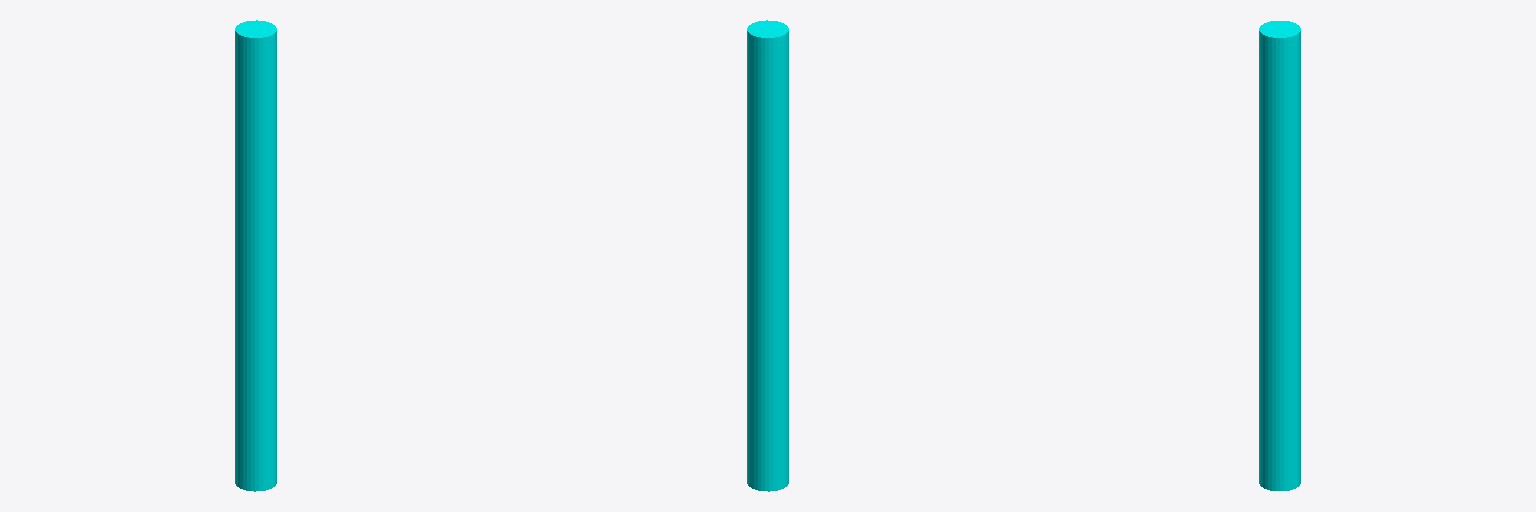
URDF robot description (three_dof_robot):
<?xml version="1.0"?>
<robot name="three_dof_robot">
  <link name="link1">
    <inertial>
      <mass value="1"/>
      <inertia ixx="0.0325" ixy="0.0" ixz="0.0" iyy="0.0325" iyz="0.0" izz="0.005"/>
      <origin xyz="0 0 0.3"/>
    </inertial>
    <visual>
      <origin xyz="0 0 0.3" rpy="0 0 0"/>
      <geometry>
        <cylinder length="0.6" radius="0.1"/>
      </geometry>
      <material name="Cyan">
        <color rgba="0 1.0 1.0 1.0"/>
      </material>
    </visual>
    <collision>
      <geometry>
        <cylinder length="0.6" radius="0.1"/>
      </geometry>
      <origin xyz="0 0 0.3"/>
    </collision>
  </link>
  <link name="link2">
    <inertial>
      <mass value="1"/>
      <inertia ixx="0.0325" ixy="0.0" ixz="0.0" iyy="0.0325" iyz="0.0" izz="0.005"/>
      <origin xyz="0 0 0.3"/>
    </inertial>
    <visual>
      <origin xyz="0 0 0.3" rpy="0 0 0"/>
      <geometry>
        <cylinder length="0.6" radius="0.1"/>
      </geometry>
      <material name="Cyan">
        <color rgba="0 1.0 1.0 1.0"/>
      </material>
    </visual>
    <collision>
      <geometry>
        <cylinder length="0.6" radius="0.1"/>
      </geometry>
      <origin xyz="0 0 0.3"/>
    </collision>
  </link>
  <link name="link3">
    <inertial>
      <mass value="1"/>
      <inertia ixx="0.0325" ixy="0.0" ixz="0.0" iyy="0.0325" iyz="0.0" izz="0.005"/>
      <origin xyz="0 0 0.3"/>
    </inertial>
    <visual>
      <origin xyz="0 0 0.3" rpy="0 0 0"/>
      <geometry>
        <cylinder length="0.6" radius="0.1"/>
      </geometry>
      <material name="Cyan">
        <color rgba="0 1.0 1.0 1.0"/>
      </material>
    </visual>
    <collision>
      <geometry>
        <cylinder length="0.6" radius="0.1"/>
      </geometry>
      <origin xyz="0 0 0.3"/>
    </collision>
  </link>
  <link name="link4">
    <inertial>
      <mass value="1"/>
      <inertia ixx="0.0325" ixy="0.0" ixz="0.0" iyy="0.0325" iyz="0.0" izz="0.005"/>
      <origin xyz="0 0 0.3"/>
    </inertial>
    <visual>
      <origin xyz="0 0 0.3" rpy="0 0 0"/>
      <geometry>
        <cylinder length="0.6" radius="0.1"/>
      </geometry>
      <material name="Cyan">
        <color rgba="0 1.0 1.0 1.0"/>
      </material>
    </visual>
    <collision>
      <geometry>
        <cylinder length="0.6" radius="0.1"/>
      </geometry>
      <origin xyz="0 0 0.3"/>
    </collision>
  </link>
  <joint name="joint1" type="revolute">
    <parent link="link1"/>
    <child link="link2"/>
    <origin xyz="0 0 0.6" rpy="0 0 0"/>
    <limit effort="30" velocity="1.0" lower="-1.5708" upper="1.5708"/>
  </joint>
  <joint name="joint2" type="revolute">
    <parent link="link2"/>
    <child link="link3"/>
    <origin xyz="0 0 0.6" rpy="0 0 0"/>
    <limit effort="30" velocity="1.0" lower="-1.5708" upper="1.5708"/>
  </joint>
  <joint name="joint3" type="revolute">
    <parent link="link3"/>
    <child link="link4"/>
    <origin xyz="0 0 0.6" rpy="0 0 0"/>
    <limit effort="30" velocity="1.0" lower="-1.5708" upper="1.5708"/>
  </joint>
  <transmission name="joint1_transmission" type="SimpleTransmission">
    <joint name="joint1"/>
    <actuator name="joint1"/>
  </transmission>
  <transmission name="joint2_transmission" type="SimpleTransmission">
    <joint name="joint2"/>
    <actuator name="joint2"/>
  </transmission>
  <transmission name="joint3_transmission" type="SimpleTransmission">
    <joint name="joint3"/>
    <actuator name="joint3"/>
  </transmission>
</robot>

--- Facts derived from the render (not from the file) ---
The picture shows the robot from 3 angles, left to right: view 1: azimuth 30°, elevation 25°; view 2: azimuth 150°, elevation 25°; view 3: azimuth 270°, elevation 25°; orthographic projection.
Robot: three_dof_robot — 4 links, 3 joints (3 revolute); root link link1; default pose: every joint at zero.
Links seen in each view (by area): view 1: link4, link3, link1, link2; view 2: link4, link3, link1, link2; view 3: link4, link3, link2, link1.
Boxes of the visible links, x1,y1,x2,y2 form: link4: (235,20,276,150); link3: (235,144,276,264); link1: (235,371,276,491); link2: (235,257,276,377); link4: (747,20,788,150); link3: (747,144,788,264); link1: (747,371,788,491); link2: (747,257,788,377); link4: (1259,21,1300,150); link3: (1259,144,1300,264); link2: (1259,257,1300,377); link1: (1259,371,1300,490).
Bounding box of the posed robot: 0.2 × 0.2 × 2.4 m (x, y, z).
Geometry: primitives only (box / cylinder / sphere), no mesh files.